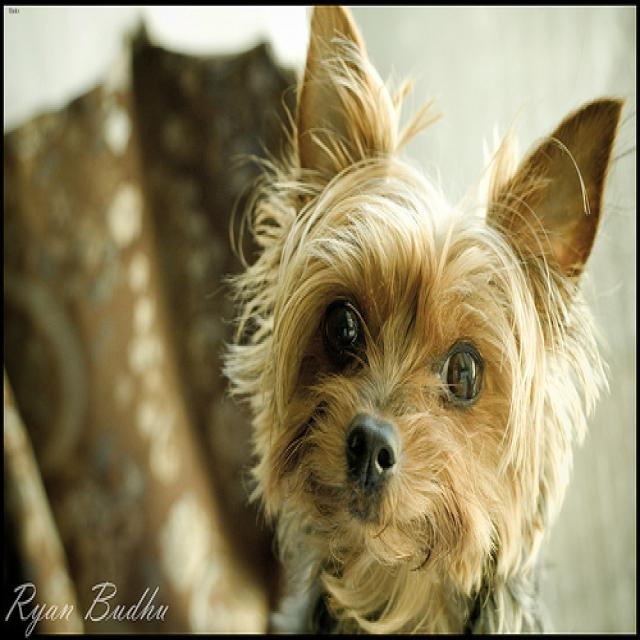dog-yorkshire_terrier: (211, 2, 636, 636)
